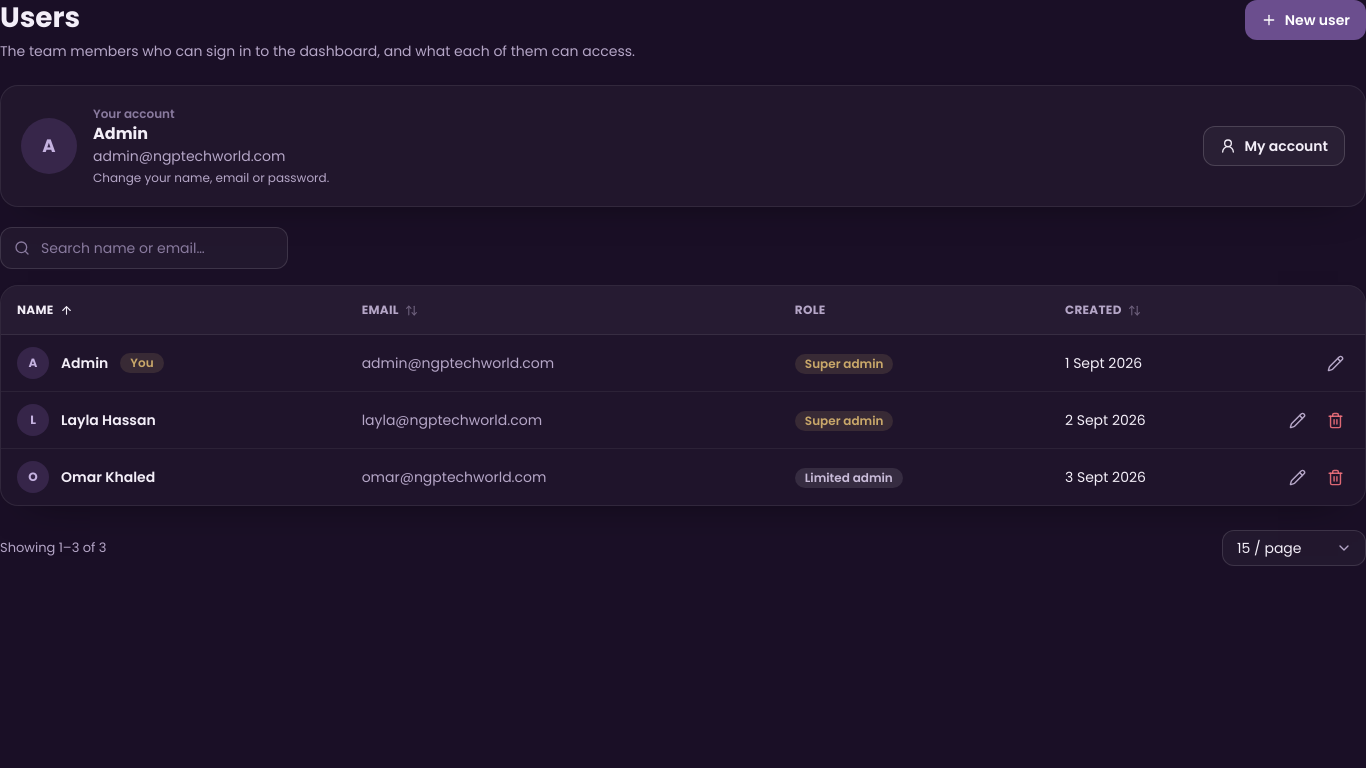
UserList › delete › shows the 422 guard message when the last super admin cannot be deleted
Expected: the text "Layla Hassan" is shown, [61,410,156,430]
Click the button named "Delete" in the row of "Layla Hassan". click: (1335, 420)
box: [1317,402,1353,438]
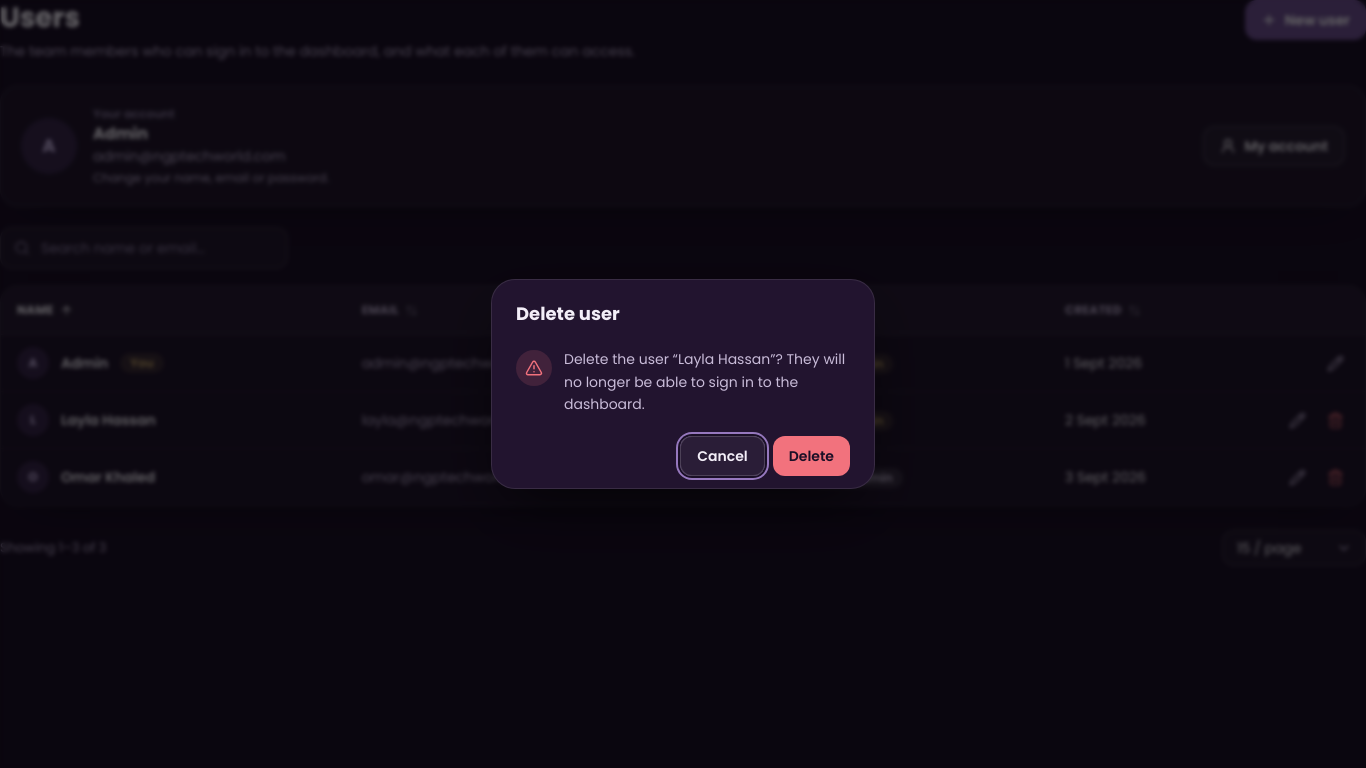
Click the button "Delete". click: (811, 456)
box: [773,436,850,476]
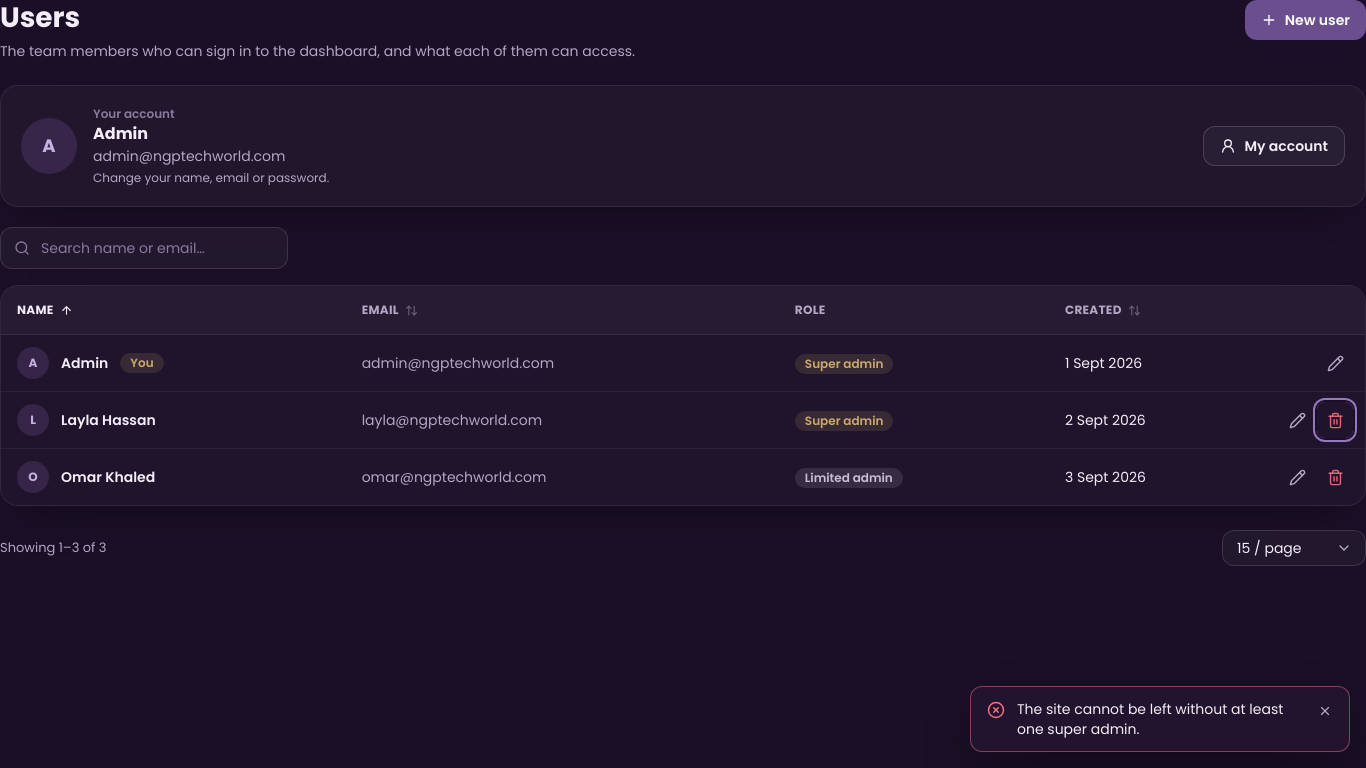
Expected: the text "Layla Hassan" is shown, [61,410,156,430]
Expected: the text "The site cannot be left without at least one super admin." is shown, [1017,699,1301,739]
